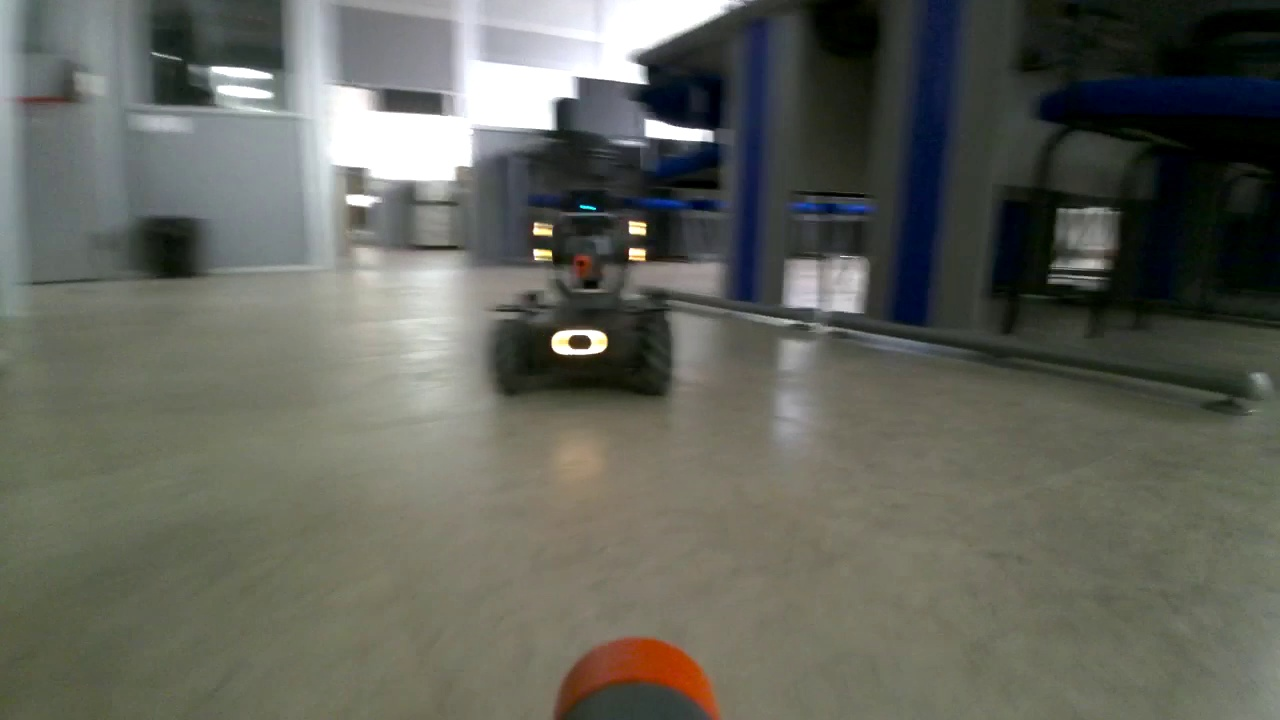robot: (481, 178, 680, 404)
